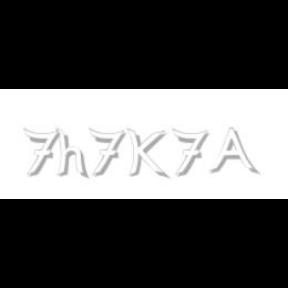7: (88, 128, 126, 178), (172, 128, 210, 178), (24, 128, 60, 178)
A: (209, 128, 257, 176)
K: (126, 128, 166, 180)
h: (55, 128, 90, 180)
